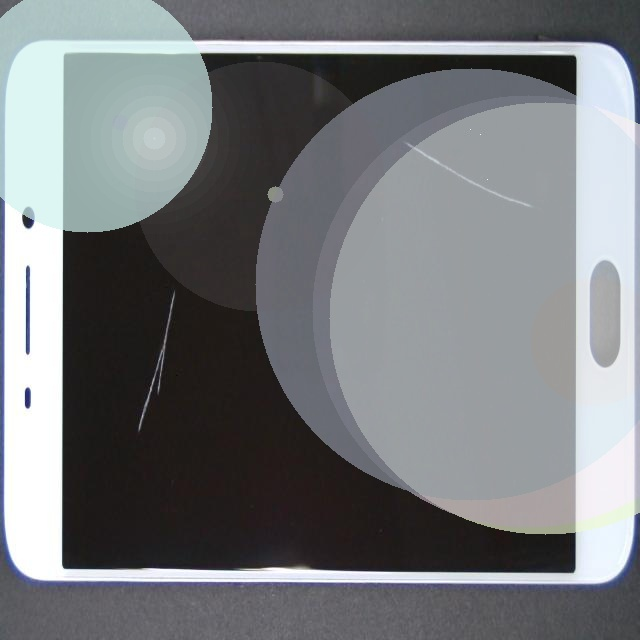scratch: (125, 59, 640, 278), (108, 60, 232, 497)
